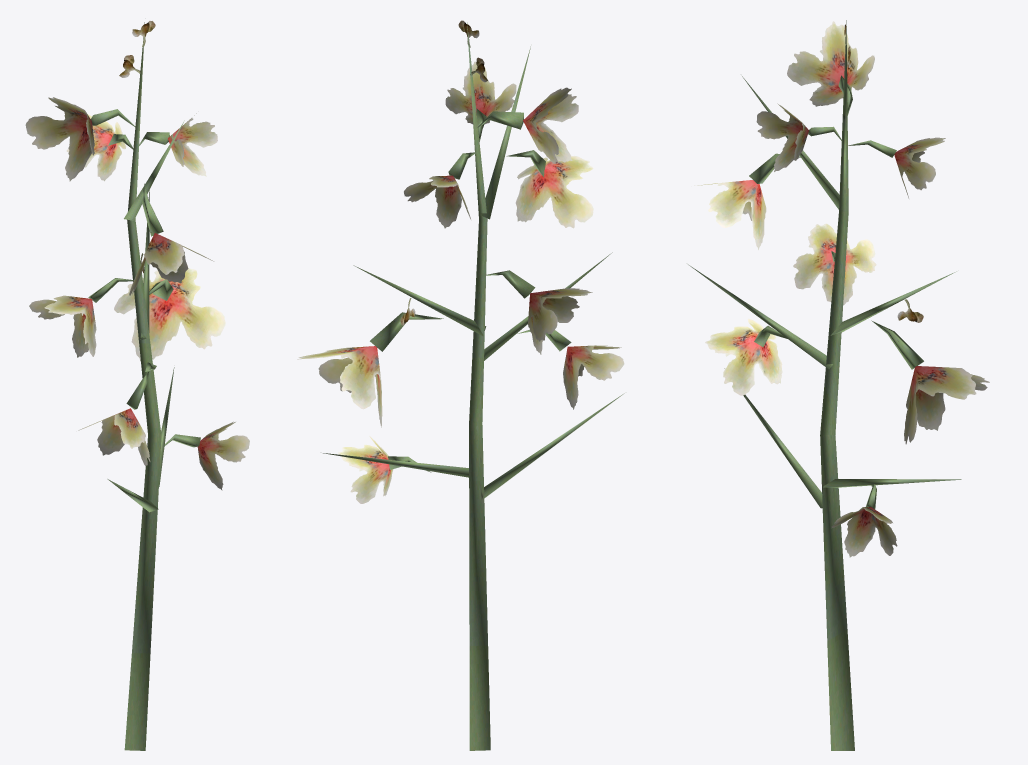
File: flow_catalpaflower_l1.fbx
3 renders of one model, left to right at view 1: azimuth 30°, elevation 25°; view 2: azimuth 150°, elevation 25°; view 3: azimuth 270°, elevation 25°, orthographic.
Visible parts, largest first — view 1: mesh_node; view 2: mesh_node; view 3: mesh_node.
Boxes of the visible parts, x1,y1,x2,y2 form: mesh_node: (25,21,249,750); mesh_node: (297,20,624,750); mesh_node: (688,20,989,750).
Bounding box in the file's own units: 0.2271 × 0.6054 × 0.2524.
2 materials, 2 textured.
